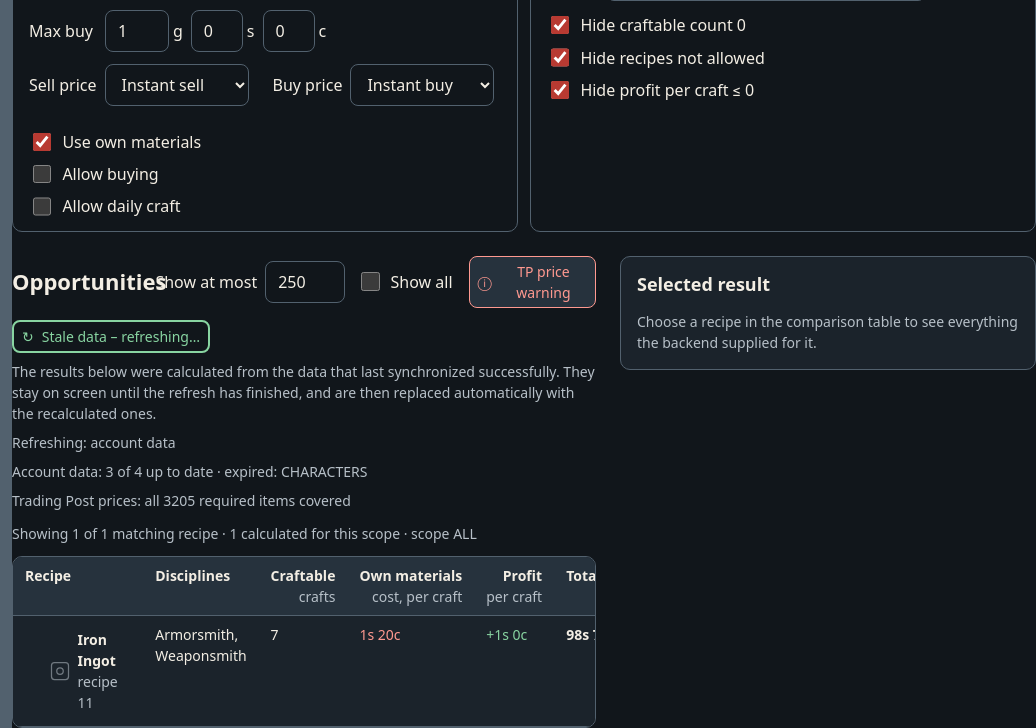
Scenario: Crafting Profit provisional refresh workflow › the view the user set up survives replacement (AC3) › showsADetailFromNewerInputsAgainstItsOwnRowRatherThanTheProvisionalOne
The width and height of the screenshot is (1036, 728).
(page scrolled)
Click the button with test id "select-row": (78, 671) [25,624,131,718]
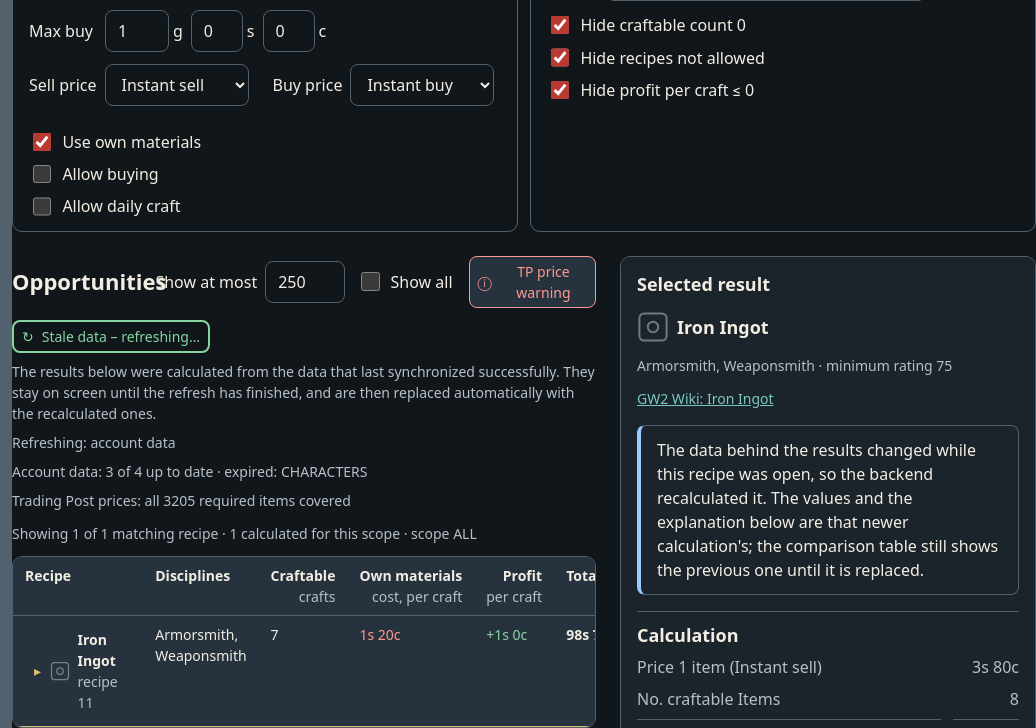
expect the text with test id "detail-recalculated" shows "newer calculation": met, box [657,439,998,581]
